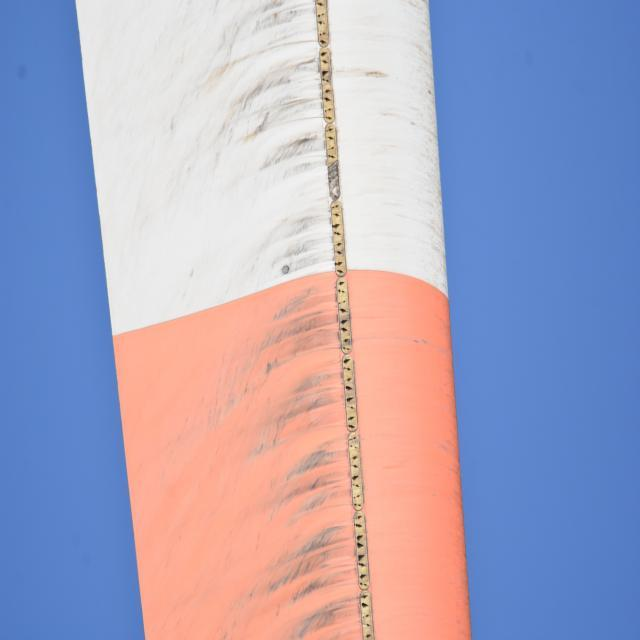Coating_defects: (278, 258, 296, 275)
